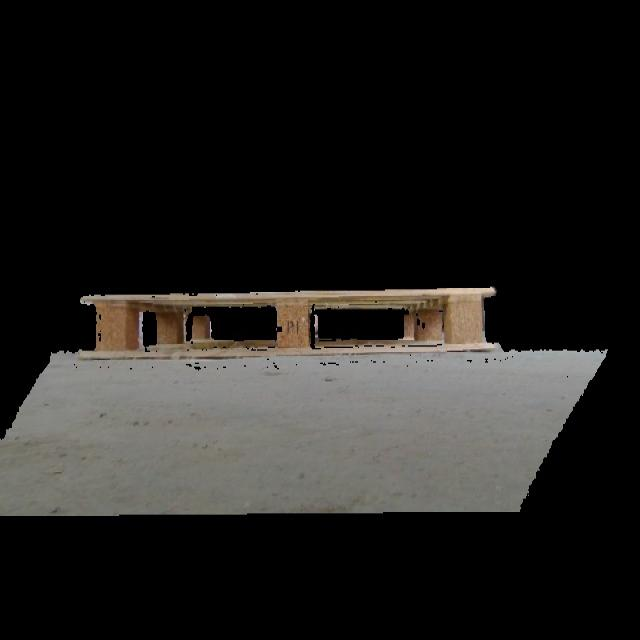block: (92, 302, 132, 354), (452, 299, 486, 346), (279, 306, 311, 352), (415, 305, 442, 341), (155, 309, 179, 348)
front: (82, 287, 513, 362)
